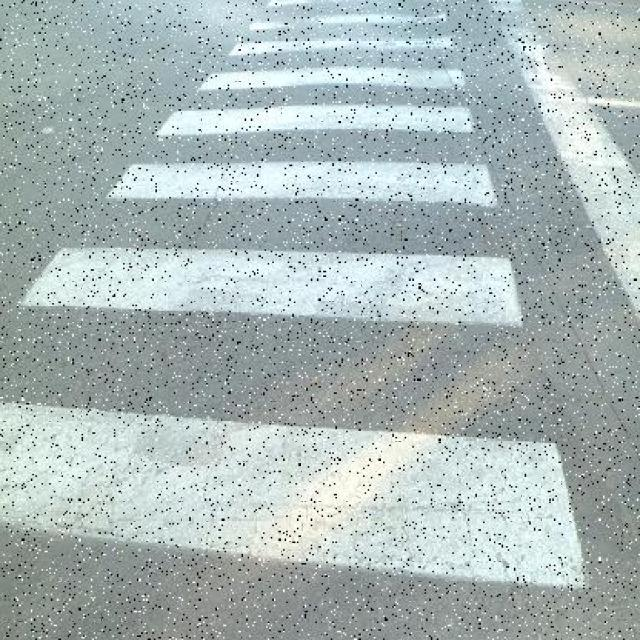crosswalk: (0, 0, 591, 587)
